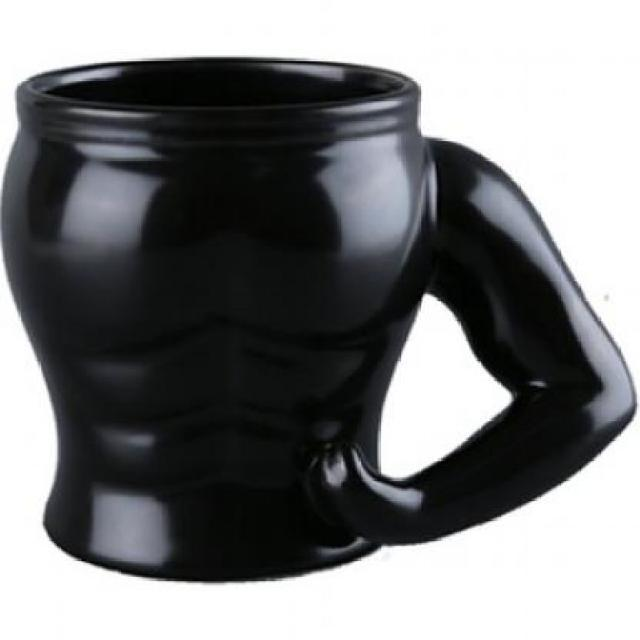taza: (0, 52, 640, 586)
